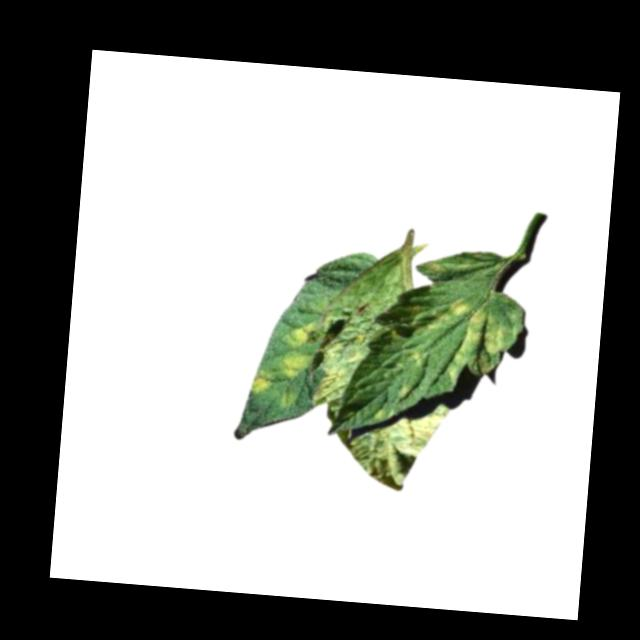Leaf_Mold: (424, 288, 511, 390), (351, 409, 452, 496), (317, 315, 375, 412), (283, 319, 318, 388), (248, 372, 275, 397)
